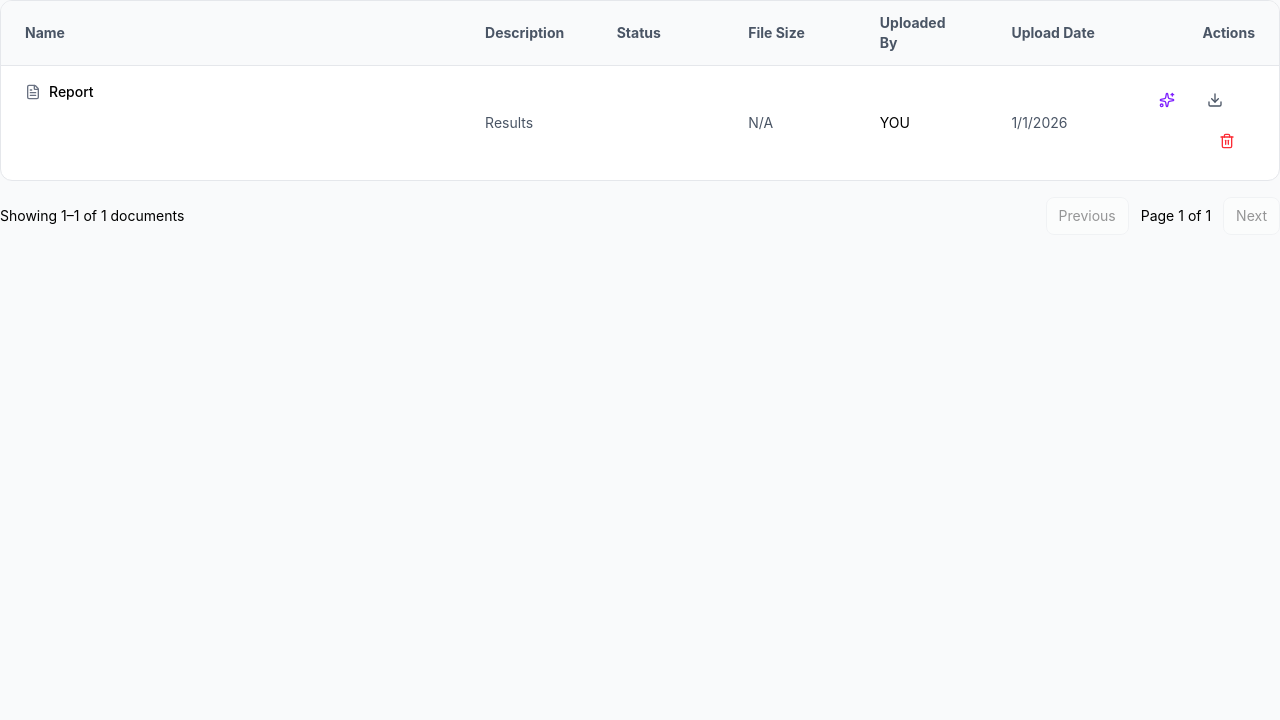
deletes only after confirmation and requests a library refresh on success
Click the button named "Delete Report": (1237, 141) [1219,123,1255,159]
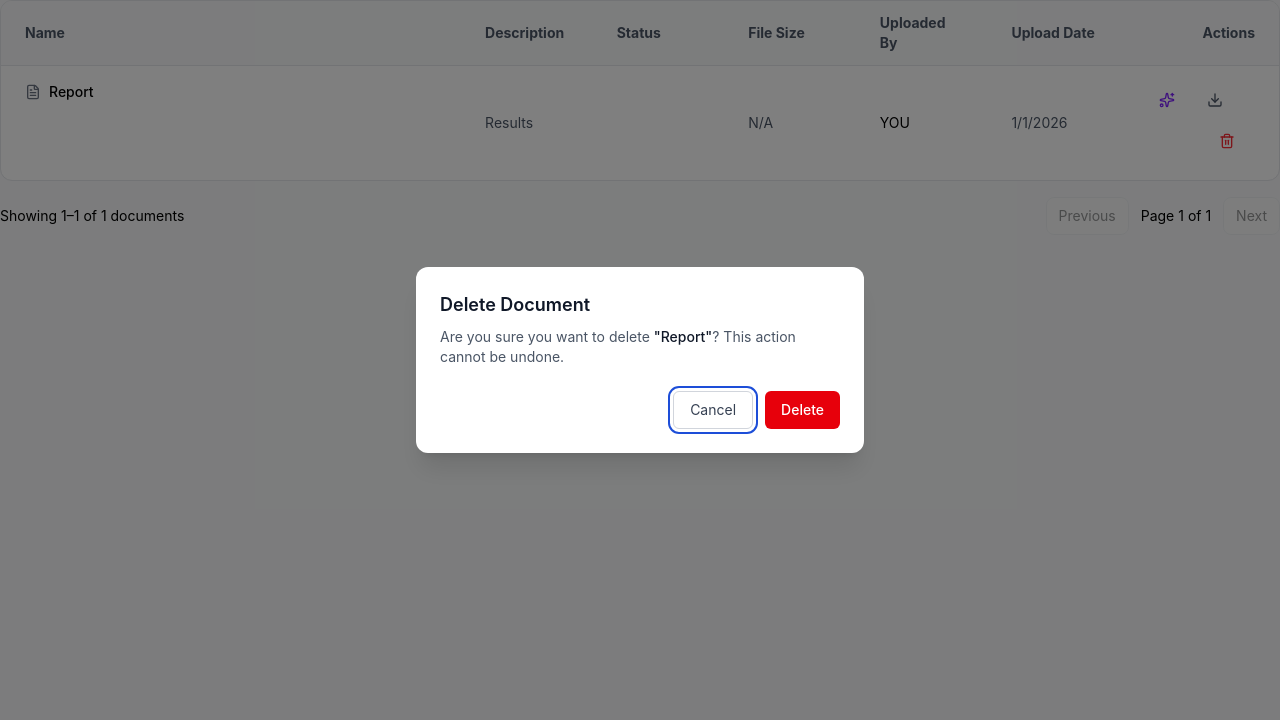
Click the button "Delete": (803, 410) [765,391,840,429]
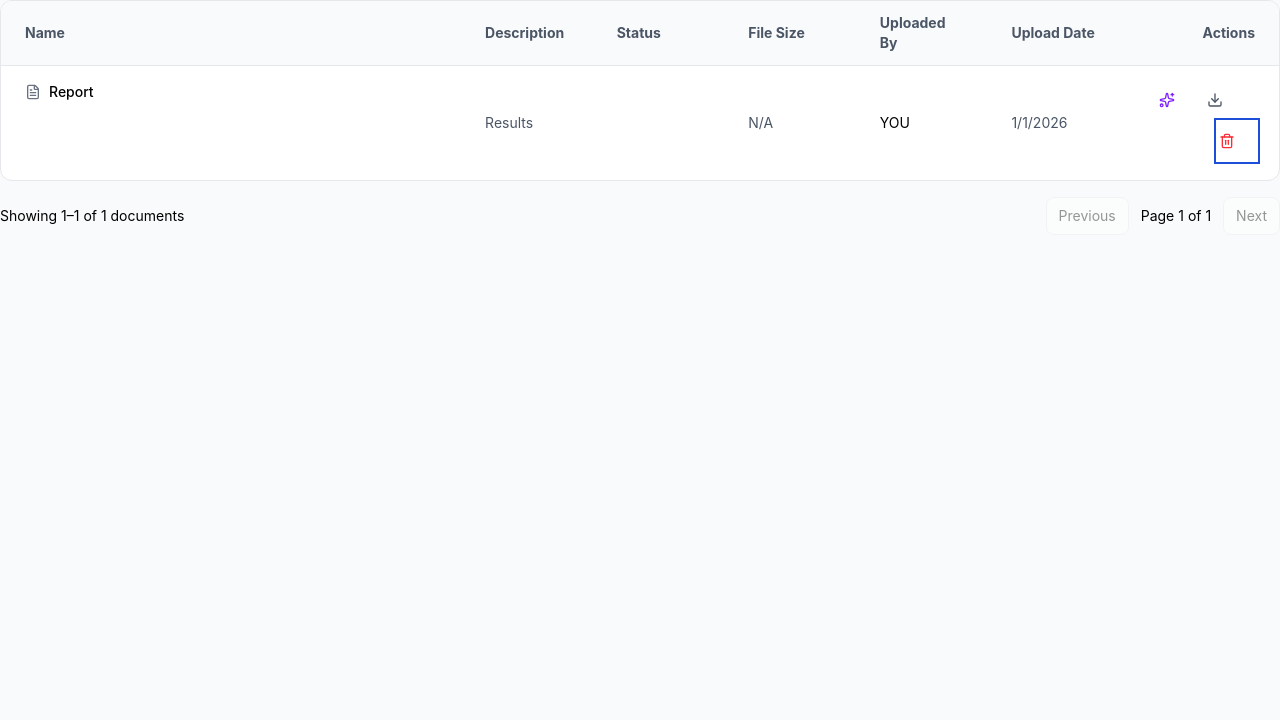
Check: the dialog is gone
